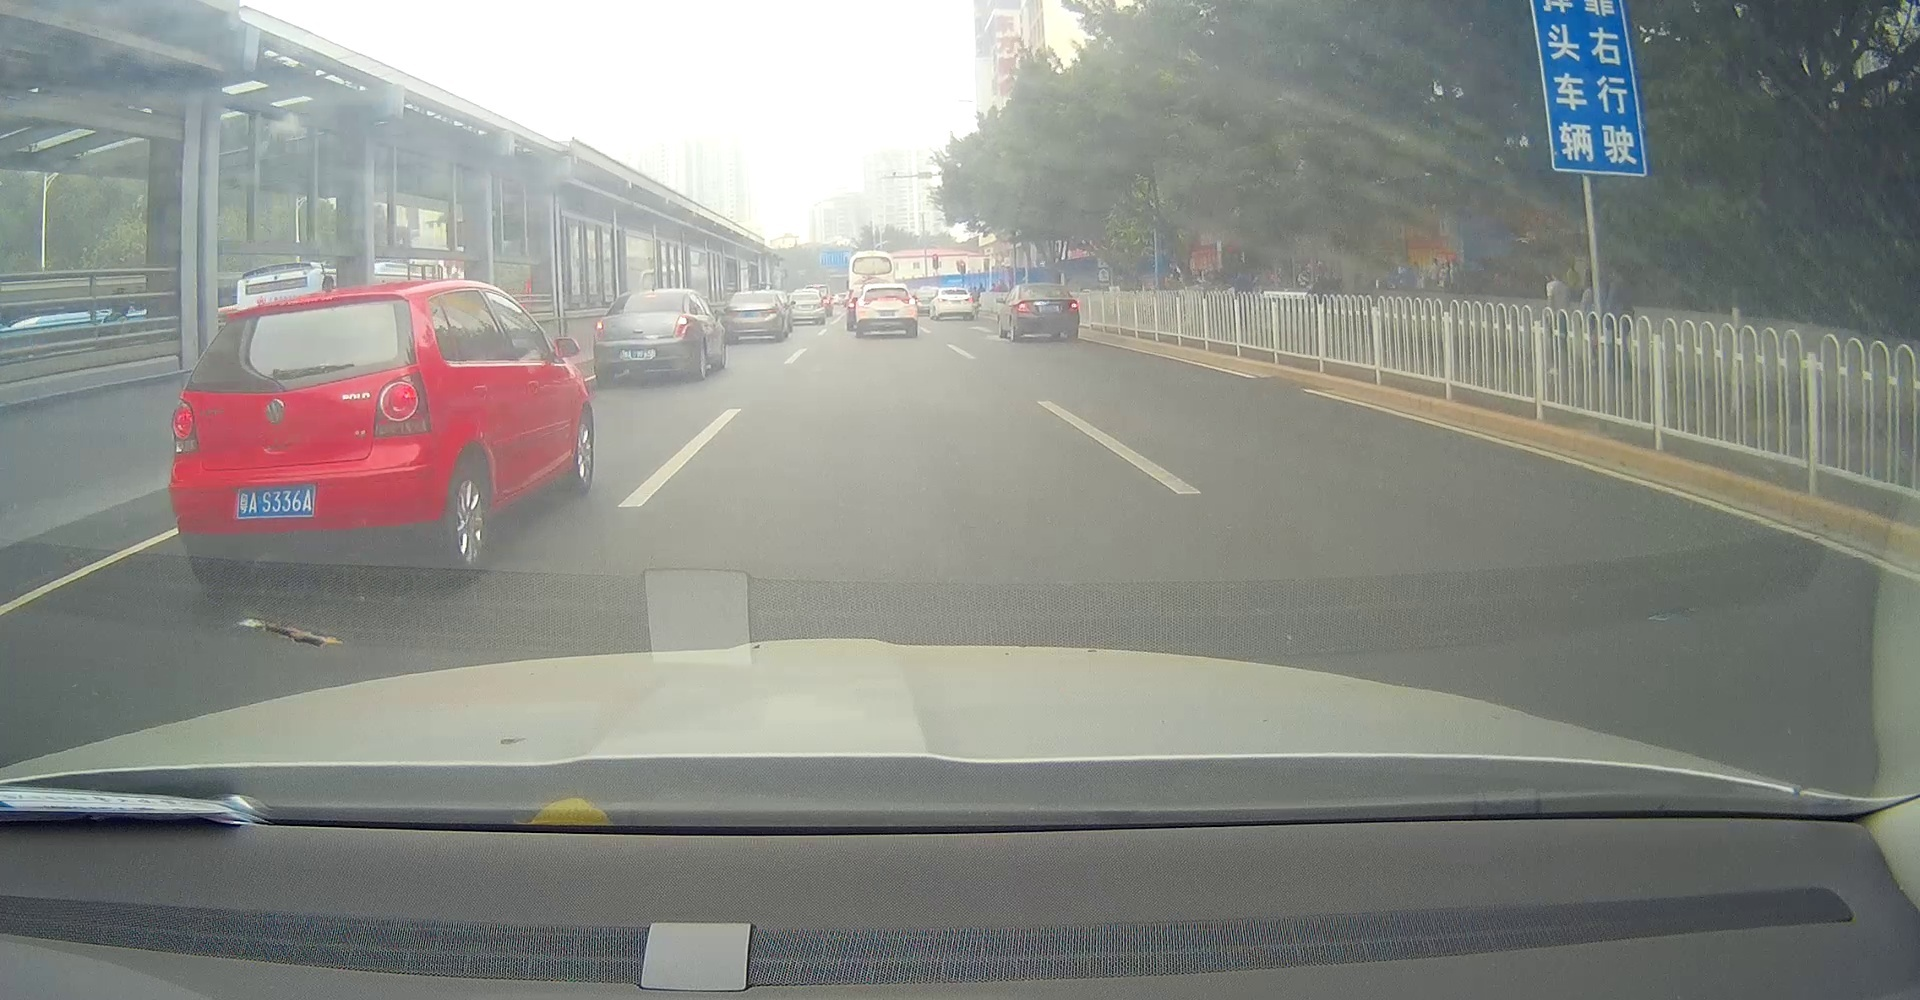L_light: (171, 397, 201, 454), (594, 320, 604, 339), (721, 308, 737, 317), (1015, 303, 1030, 312), (856, 299, 870, 306), (936, 298, 947, 302)
R_light: (373, 371, 430, 437), (672, 315, 690, 341), (761, 306, 778, 315), (902, 296, 917, 305), (1065, 299, 1078, 310), (963, 299, 971, 303)
T_light: (300, 305, 342, 311), (877, 296, 897, 299), (644, 293, 659, 297), (1037, 284, 1051, 287), (749, 292, 761, 294), (951, 288, 957, 291)
day-brake: (594, 288, 692, 388), (855, 283, 918, 339), (935, 287, 973, 320)
day-no: (169, 282, 448, 593), (1013, 283, 1079, 343), (721, 289, 782, 346)
